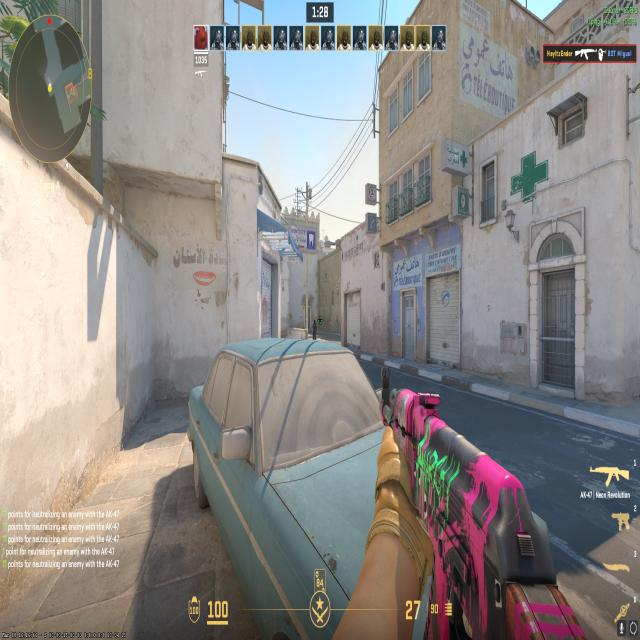ct: (308, 315, 319, 343)
